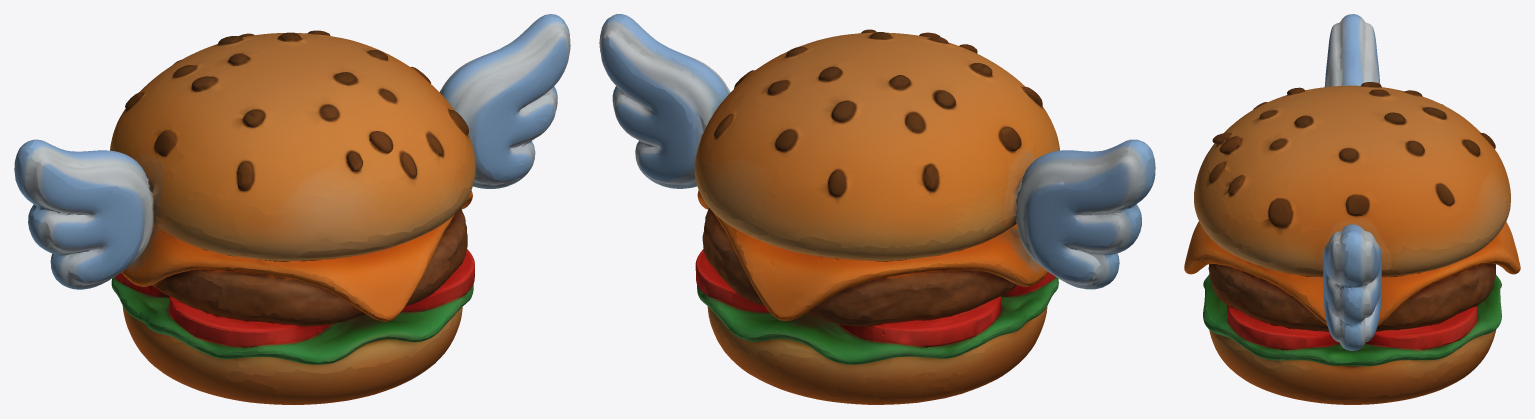
Rendered from burger-wings.glb.
3 renders of one model, left to right at view 1: azimuth 30°, elevation 25°; view 2: azimuth 150°, elevation 25°; view 3: azimuth 270°, elevation 25°, orthographic. The views are drawn at different scales.
Parts seen in each view (by area): view 1: world; view 2: world; view 3: world.
Boxes of the visible parts, left/top/right/bottom form: world: left=14, top=14, right=570, bottom=404; world: left=599, top=14, right=1155, bottom=404; world: left=1184, top=14, right=1520, bottom=404.
Bounding box in the file's own units: 0.22 × 0.114 × 0.1357.
Materials: 1 (1 with a texture image).
